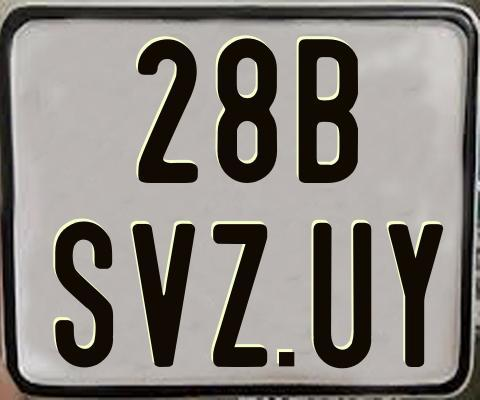2: (135, 36, 198, 180)
8: (216, 37, 277, 188)
B: (297, 36, 362, 185)
S: (52, 221, 113, 371)
U: (313, 223, 374, 368)
V: (131, 223, 200, 370)
Y: (386, 222, 445, 366)
Z: (213, 223, 269, 371)
